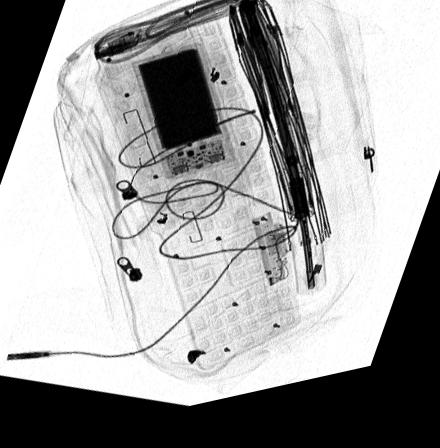Powerbank: (131, 52, 238, 186)
